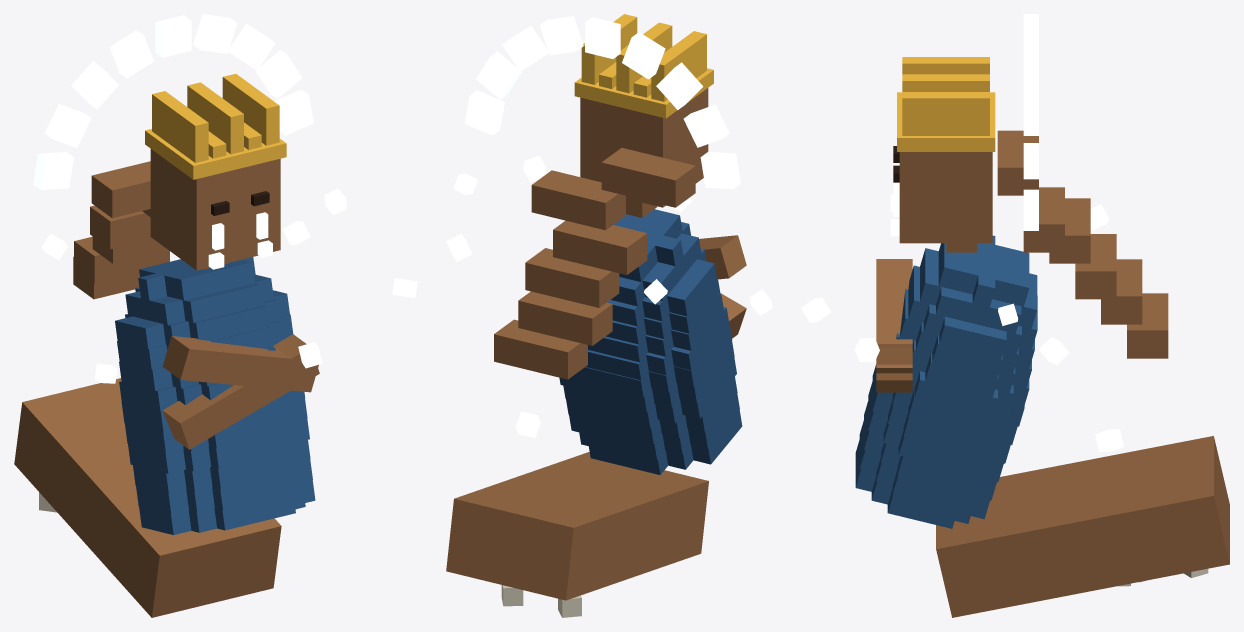
3 renders of one model, left to right at view 1: azimuth 30°, elevation 25°; view 2: azimuth 150°, elevation 25°; view 3: azimuth 270°, elevation 25°, orthographic. The views are drawn at different scales.
Parts seen in each view (by area): view 1: R036_Main, R036_Accent, R036_Aura_Foam, R036_Trim, R036_Aura_Pearls, R036_Glow; view 2: R036_Main, R036_Accent, R036_Aura_Foam, R036_Trim, R036_Aura_Pearls, R036_Gem; view 3: R036_Main, R036_Accent, R036_Trim, R036_Aura_Foam, R036_Aura_Pearls.
Boxes of the visible parts, bbox=[...] form: R036_Main: bbox=[14, 149, 319, 617]; R036_Accent: bbox=[115, 257, 315, 534]; R036_Aura_Foam: bbox=[33, 14, 313, 189]; R036_Trim: bbox=[145, 73, 286, 179]; R036_Aura_Pearls: bbox=[41, 189, 417, 383]; R036_Glow: bbox=[208, 212, 272, 269]; R036_Main: bbox=[446, 88, 746, 600]; R036_Accent: bbox=[559, 209, 742, 474]; R036_Aura_Foam: bbox=[464, 16, 740, 189]; R036_Trim: bbox=[574, 14, 713, 118]; R036_Aura_Pearls: bbox=[446, 155, 772, 437]; R036_Gem: bbox=[501, 585, 581, 617]; R036_Main: bbox=[876, 130, 1229, 617]; R036_Accent: bbox=[855, 235, 1037, 528]; R036_Trim: bbox=[897, 57, 995, 151]; R036_Aura_Foam: bbox=[1023, 14, 1038, 230]; R036_Aura_Pearls: bbox=[801, 204, 1123, 451].
Size of the model in its own units: 1.35 by 2.39 by 1.66.
